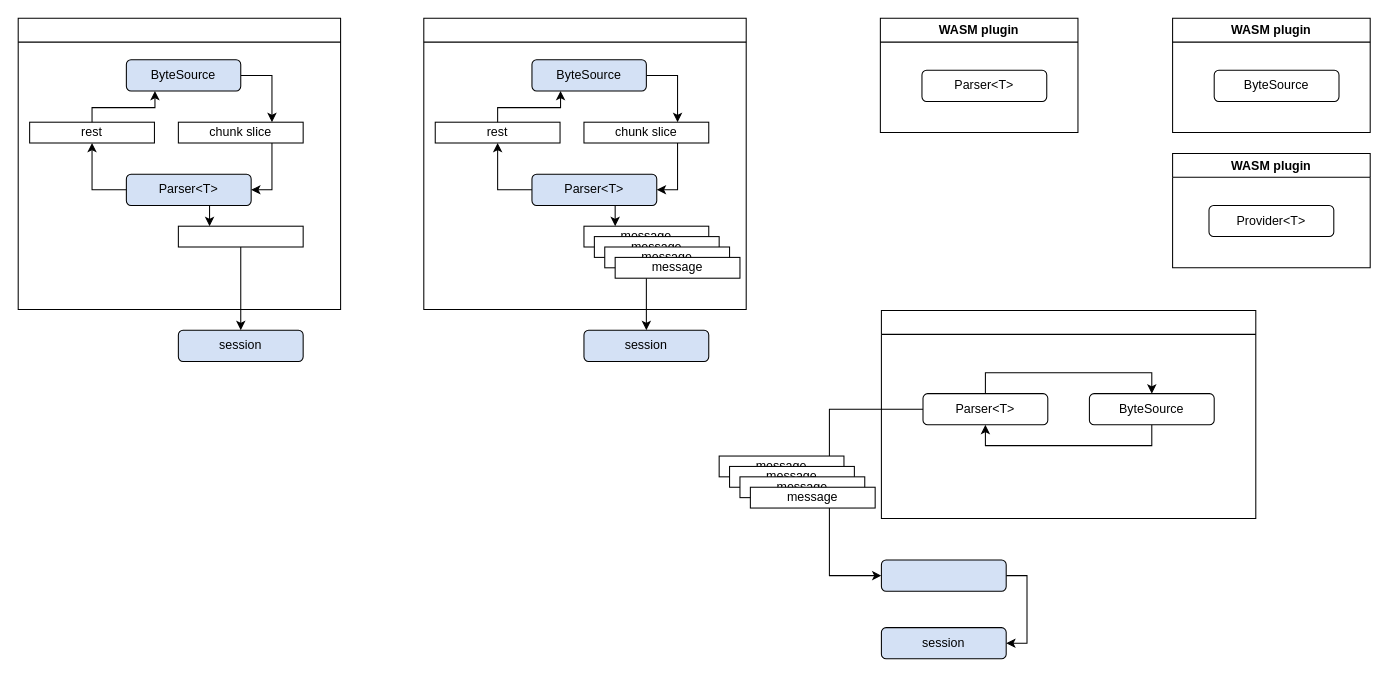
This 1388x677 diagram has some shape labels left out. The shapes that lost their labels are listed below. From the top down, each one's box as (x1, y1, x2, y2) in pixels, then its label:
(17, 17, 341, 309): Message producer (Current - single message way)
(423, 17, 746, 309): Message producer (Next - multiple messages way)
(177, 225, 303, 247): message (?)
(880, 309, 1256, 518): WASM plugin (self producing)
(880, 559, 1006, 591): proxy(?)
